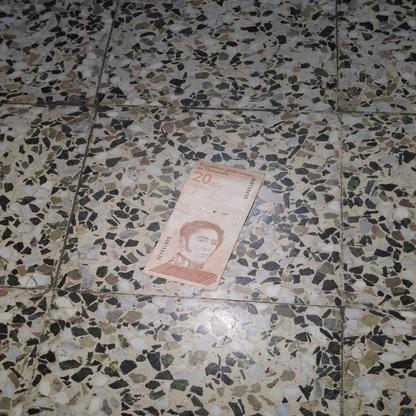twenty-front-vef: (142, 159, 267, 291)
